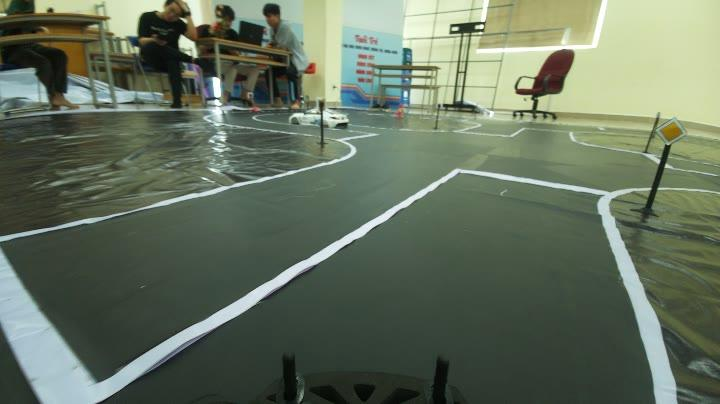priority: (657, 113, 690, 152)
